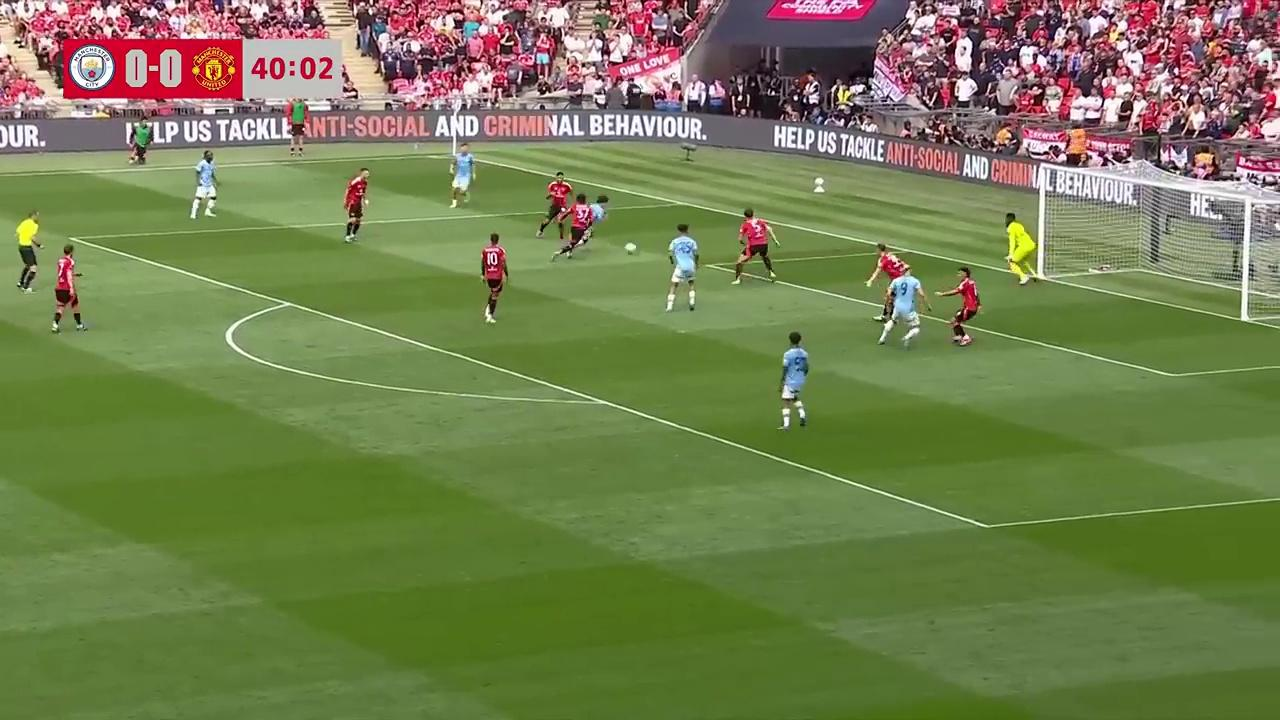ball: (623, 238, 636, 256)
player: (881, 271, 929, 349), (733, 209, 779, 284), (938, 266, 981, 346), (51, 245, 88, 333), (777, 332, 809, 430), (665, 223, 699, 313), (572, 195, 614, 255), (481, 232, 508, 323), (537, 172, 573, 236), (1005, 212, 1036, 286), (189, 148, 218, 219), (343, 168, 369, 242), (448, 142, 476, 208), (864, 242, 903, 288), (563, 197, 590, 261)
referee: (15, 210, 41, 293)
